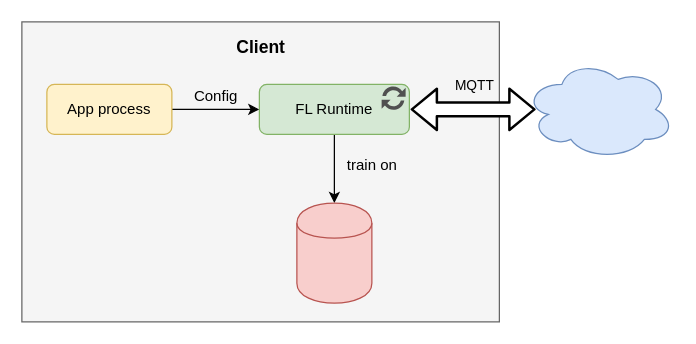
Some shapes in this 696 by 344 pixel diagram are drawn without their labels. The shapes that lost their labels are listed below. From the top down, each one's centre as x and y in pixels, then its label:
At point 598,108: "Coordinator server".
At point 334,252: "Local subset".
